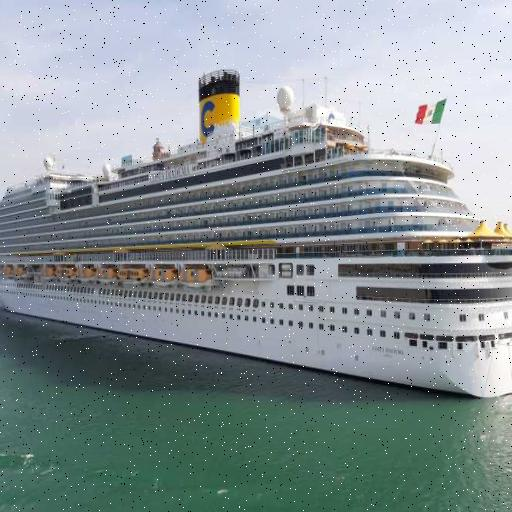cruises: (1, 62, 512, 406)
